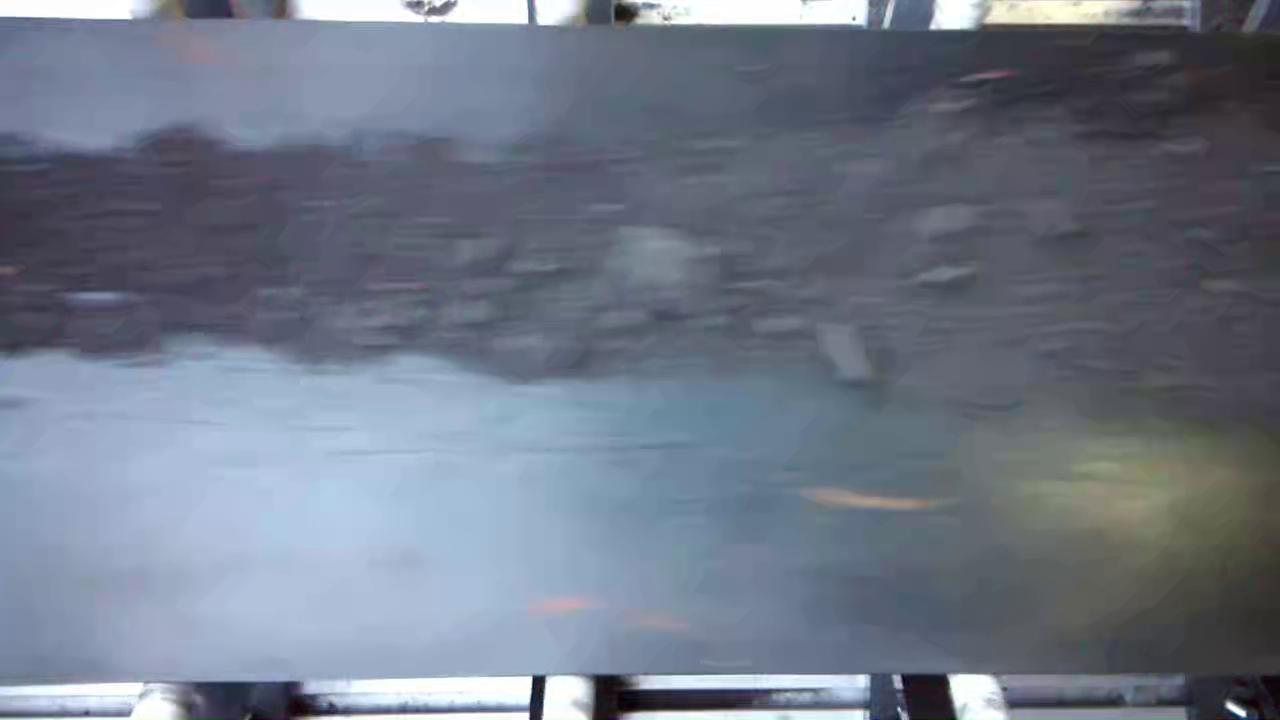conveyor: (7, 30, 1274, 664)
